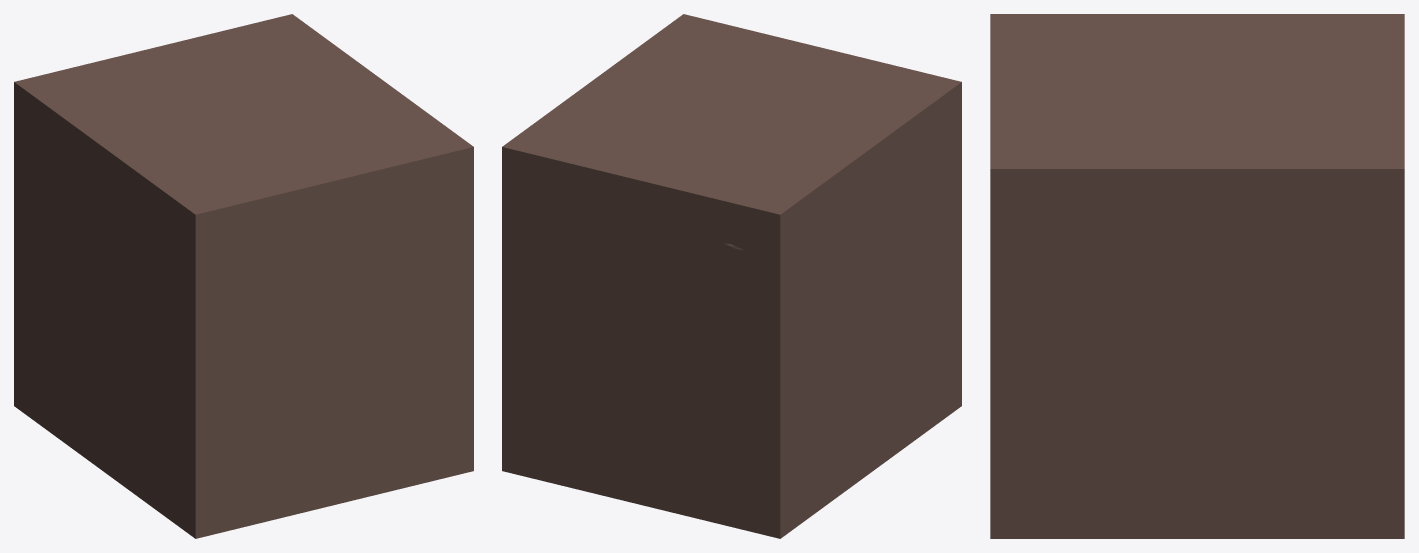
The model's file is Caja Fragil de suministros.fbx.
3 views of the same model, side by side, from view 1: azimuth 30°, elevation 25°; view 2: azimuth 150°, elevation 25°; view 3: azimuth 270°, elevation 25° (orthographic). The views are drawn at different scales.
Visible parts, largest first — view 1: Cube; view 2: Cube; view 3: Cube.
Part boxes in pixels (left/top/right/bottom): Cube: left=14, top=14, right=473, bottom=538; Cube: left=502, top=14, right=961, bottom=538; Cube: left=990, top=14, right=1404, bottom=538.
Bounding box in the file's own units: 308 × 343 × 348.
Materials: 1 (1 with a texture image).
